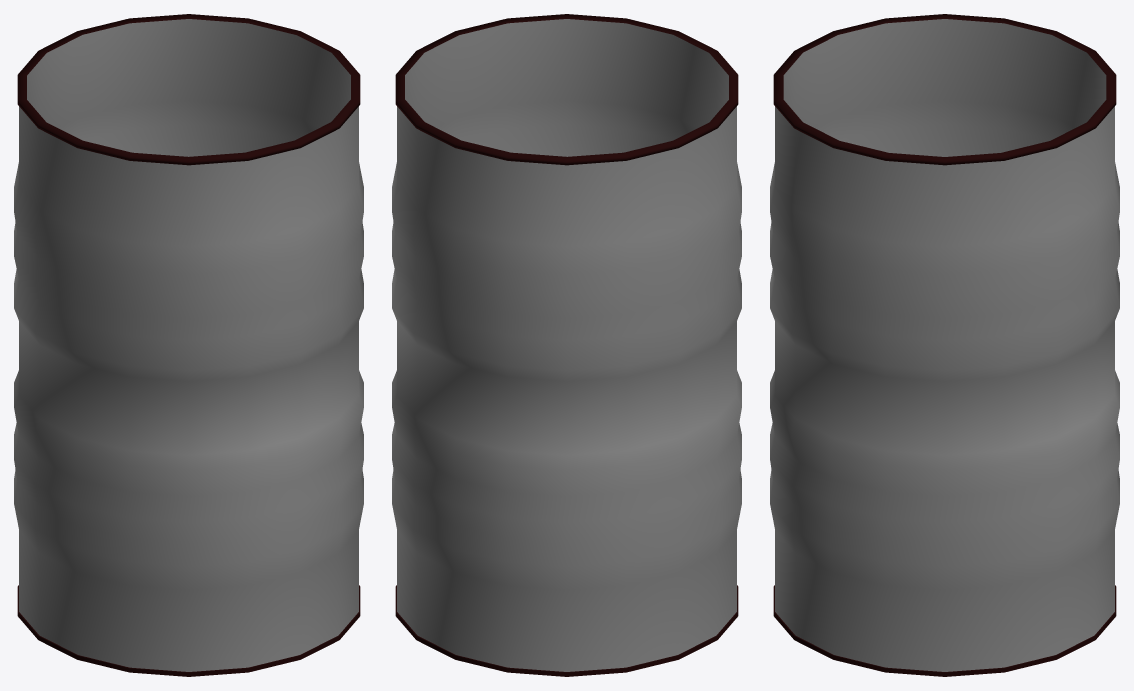
Rendered from P_Tonneau.FBX.
3 views of the same model, side by side, from view 1: azimuth 30°, elevation 25°; view 2: azimuth 150°, elevation 25°; view 3: azimuth 270°, elevation 25° (orthographic).
Visible parts, largest first — view 1: P_Tonneau; view 2: P_Tonneau; view 3: P_Tonneau.
Boxes of the visible parts, x1,y1,x2,y2 form: P_Tonneau: (14,14,363,676); P_Tonneau: (392,14,741,676); P_Tonneau: (770,14,1119,676).
Size of the model in its own units: 0.6933 by 1.11 by 0.6828.
